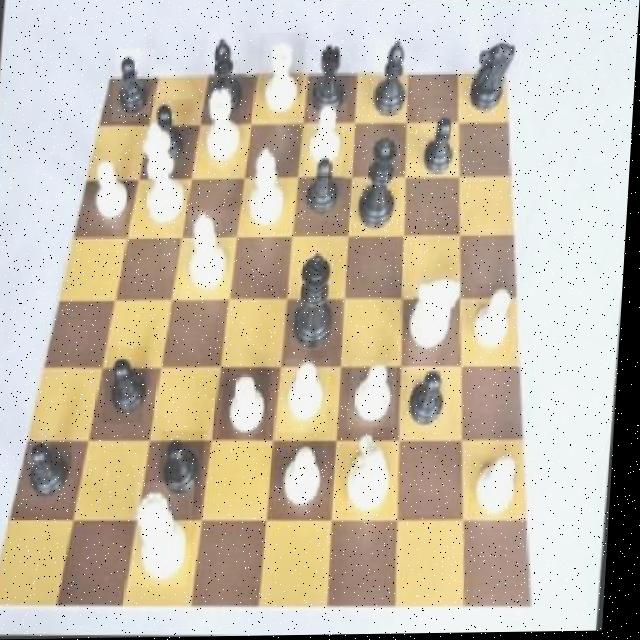bishop: (201, 33, 249, 132), (372, 37, 413, 124)
black-bishop: (291, 251, 348, 356)
black-king: (466, 37, 519, 125)
black-knight: (26, 439, 83, 508), (414, 108, 467, 180), (147, 99, 195, 175), (163, 431, 211, 507), (409, 360, 457, 434), (107, 346, 153, 423), (302, 153, 348, 224), (113, 49, 156, 123)
black-pawn: (358, 135, 407, 237)
black-queen: (312, 31, 354, 116)
black-rook: (183, 209, 241, 301), (247, 146, 293, 231)
white-bishop: (131, 115, 196, 235)
white-king: (345, 432, 404, 519), (412, 274, 469, 364)
white-knight: (284, 359, 335, 435), (476, 446, 527, 519), (282, 439, 332, 512), (226, 367, 276, 439), (476, 284, 522, 359), (353, 361, 403, 429), (306, 103, 349, 177), (93, 158, 137, 230)
white-pawn: (136, 484, 202, 589)
white-queen: (255, 33, 306, 121), (202, 82, 249, 169)
